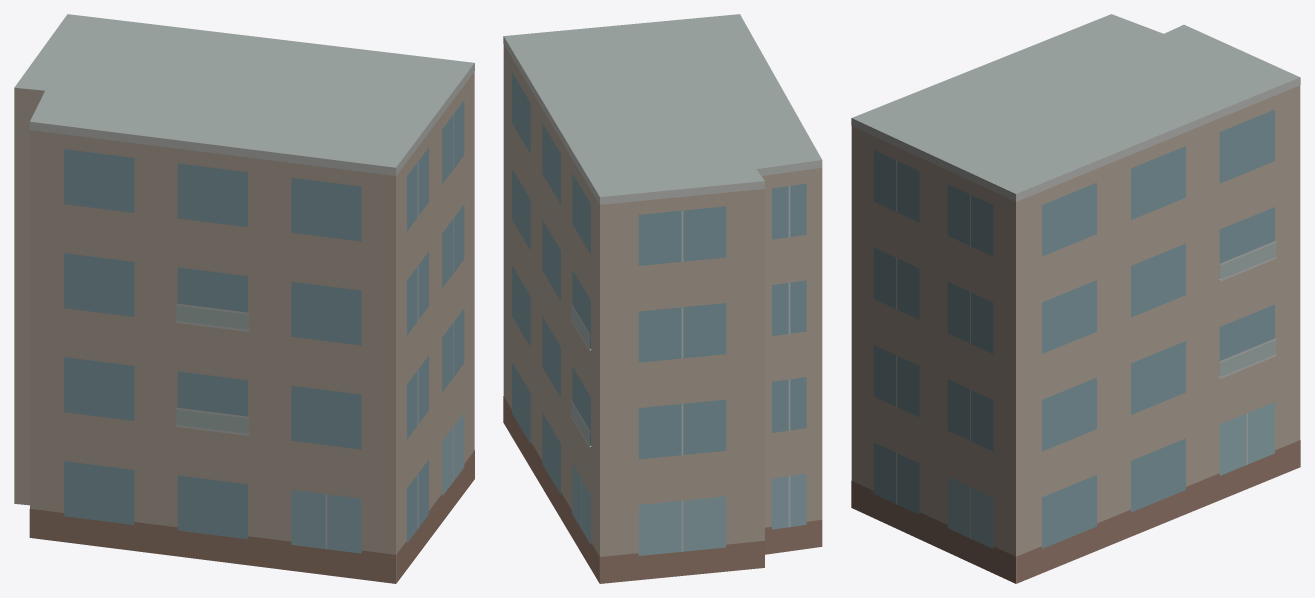
The model's file is survey-upis-32671086.glb.
The picture shows the model from 3 angles, left to right: view 1: azimuth 30°, elevation 25°; view 2: azimuth 150°, elevation 25°; view 3: azimuth 270°, elevation 25°; orthographic projection. The views are drawn at different scales.
Parts seen in each view (by area): view 1: survey-upis-32671086.tmp; view 2: survey-upis-32671086.tmp; view 3: survey-upis-32671086.tmp.
Boxes of the visible parts, x1,y1,x2,y2 form: survey-upis-32671086.tmp: [14, 14, 474, 583]; survey-upis-32671086.tmp: [503, 14, 822, 583]; survey-upis-32671086.tmp: [851, 14, 1300, 583].
Size of the model in its own units: 12.1 by 12.2 by 12.74.
